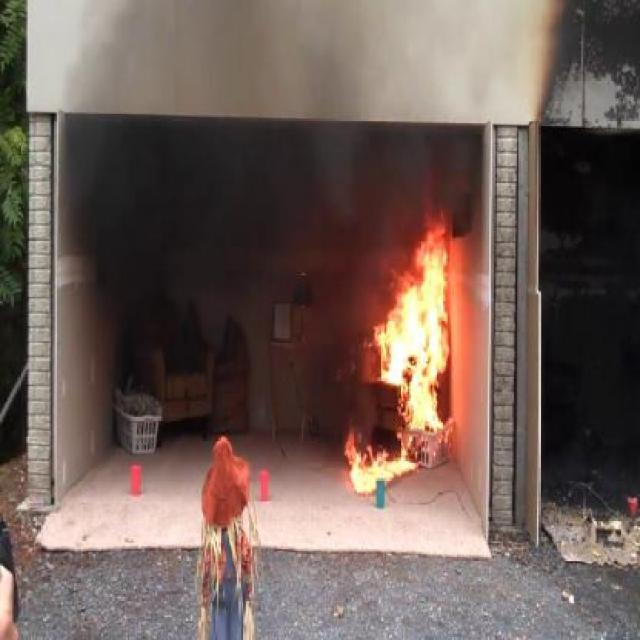fire: (371, 230, 466, 484)
smoke: (73, 14, 358, 413)
